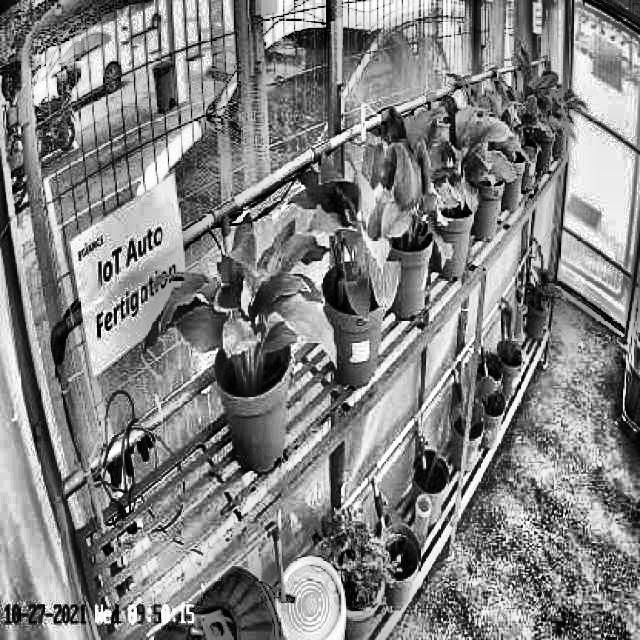plants: (146, 212, 337, 383), (358, 121, 452, 270), (304, 181, 398, 317), (404, 92, 513, 208)
